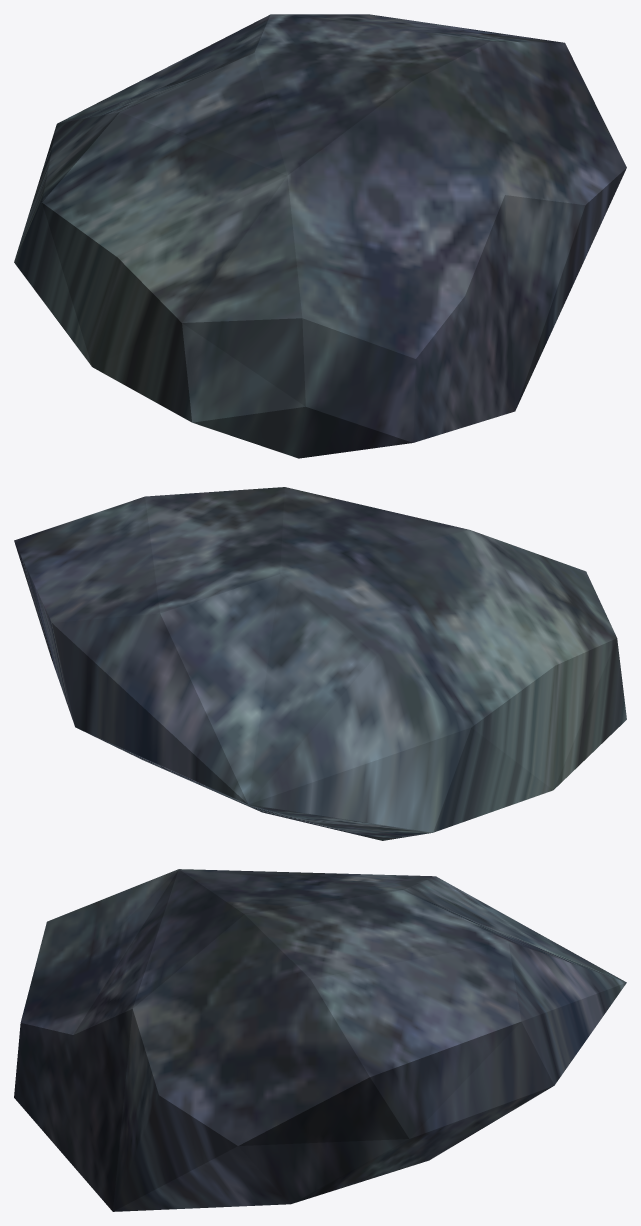
File: C4SNSMALLROCKA.obj
3 renders of one model, top to bottom at view 1: azimuth 30°, elevation 25°; view 2: azimuth 150°, elevation 25°; view 3: azimuth 270°, elevation 25°, orthographic. The views are drawn at different scales.
Parts seen in each view (by area): view 1: Node 0; view 2: Node 0; view 3: Node 0.
Part boxes in pixels (x1=…): Node 0: x1=14, y1=14, x2=626, y2=458; Node 0: x1=14, y1=487, x2=626, y2=840; Node 0: x1=14, y1=869, x2=626, y2=1211.
Size of the model in its own units: 0.88 by 0.48 by 0.93.
Materials: 1 (1 with a texture image).
